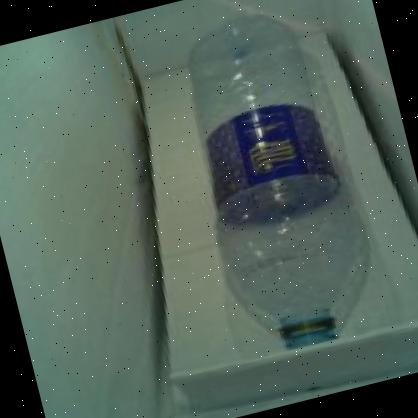bottle: (147, 0, 398, 383)
label: (190, 92, 342, 217)
